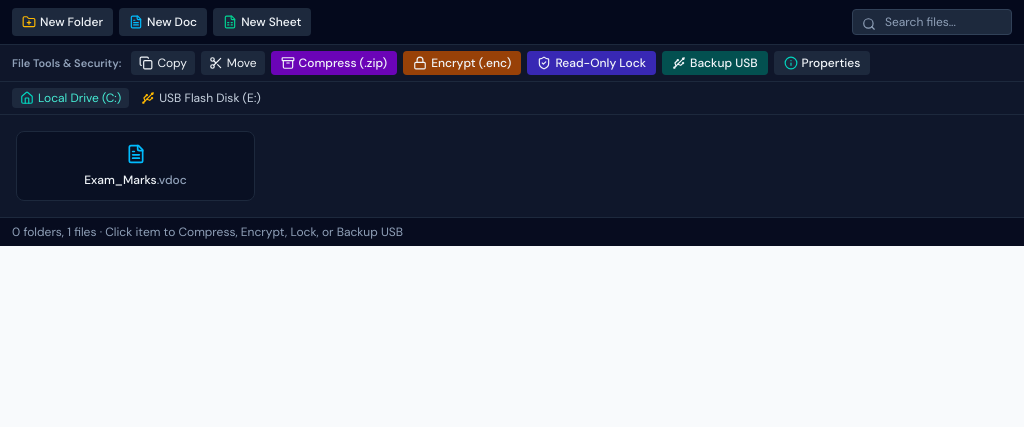
ICT Made Easy UI Component Tests › supports FileManagerApp file security actions: Properties inspector and Encryption
This screenshot has width=1024, height=427.
Later steps or results of the test are not shown.
Click the text "Exam_Marks": (135, 180) [84, 172, 187, 188]
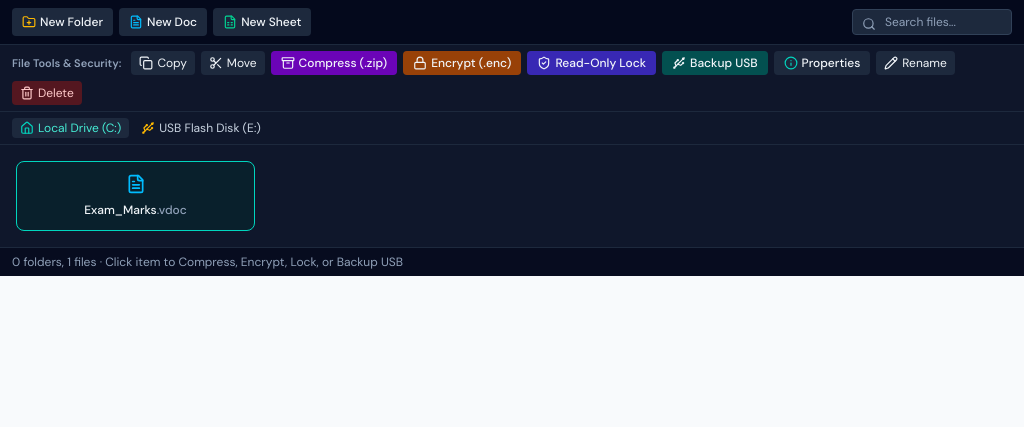
Click the button "Properties": (822, 63) [774, 51, 870, 75]
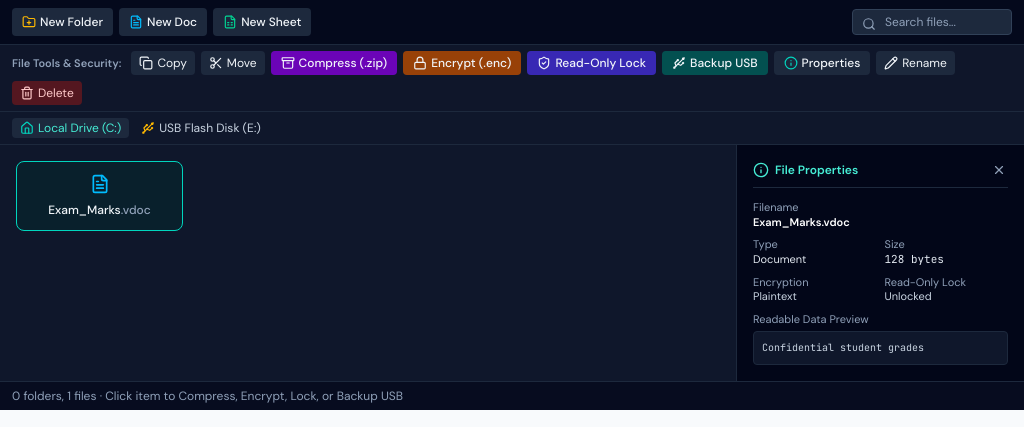
Expected: the text "Readable Data Preview" is shown, [753, 312, 869, 326]
Expected: the text "Confidential student grades" is shown, [753, 331, 1008, 365]
